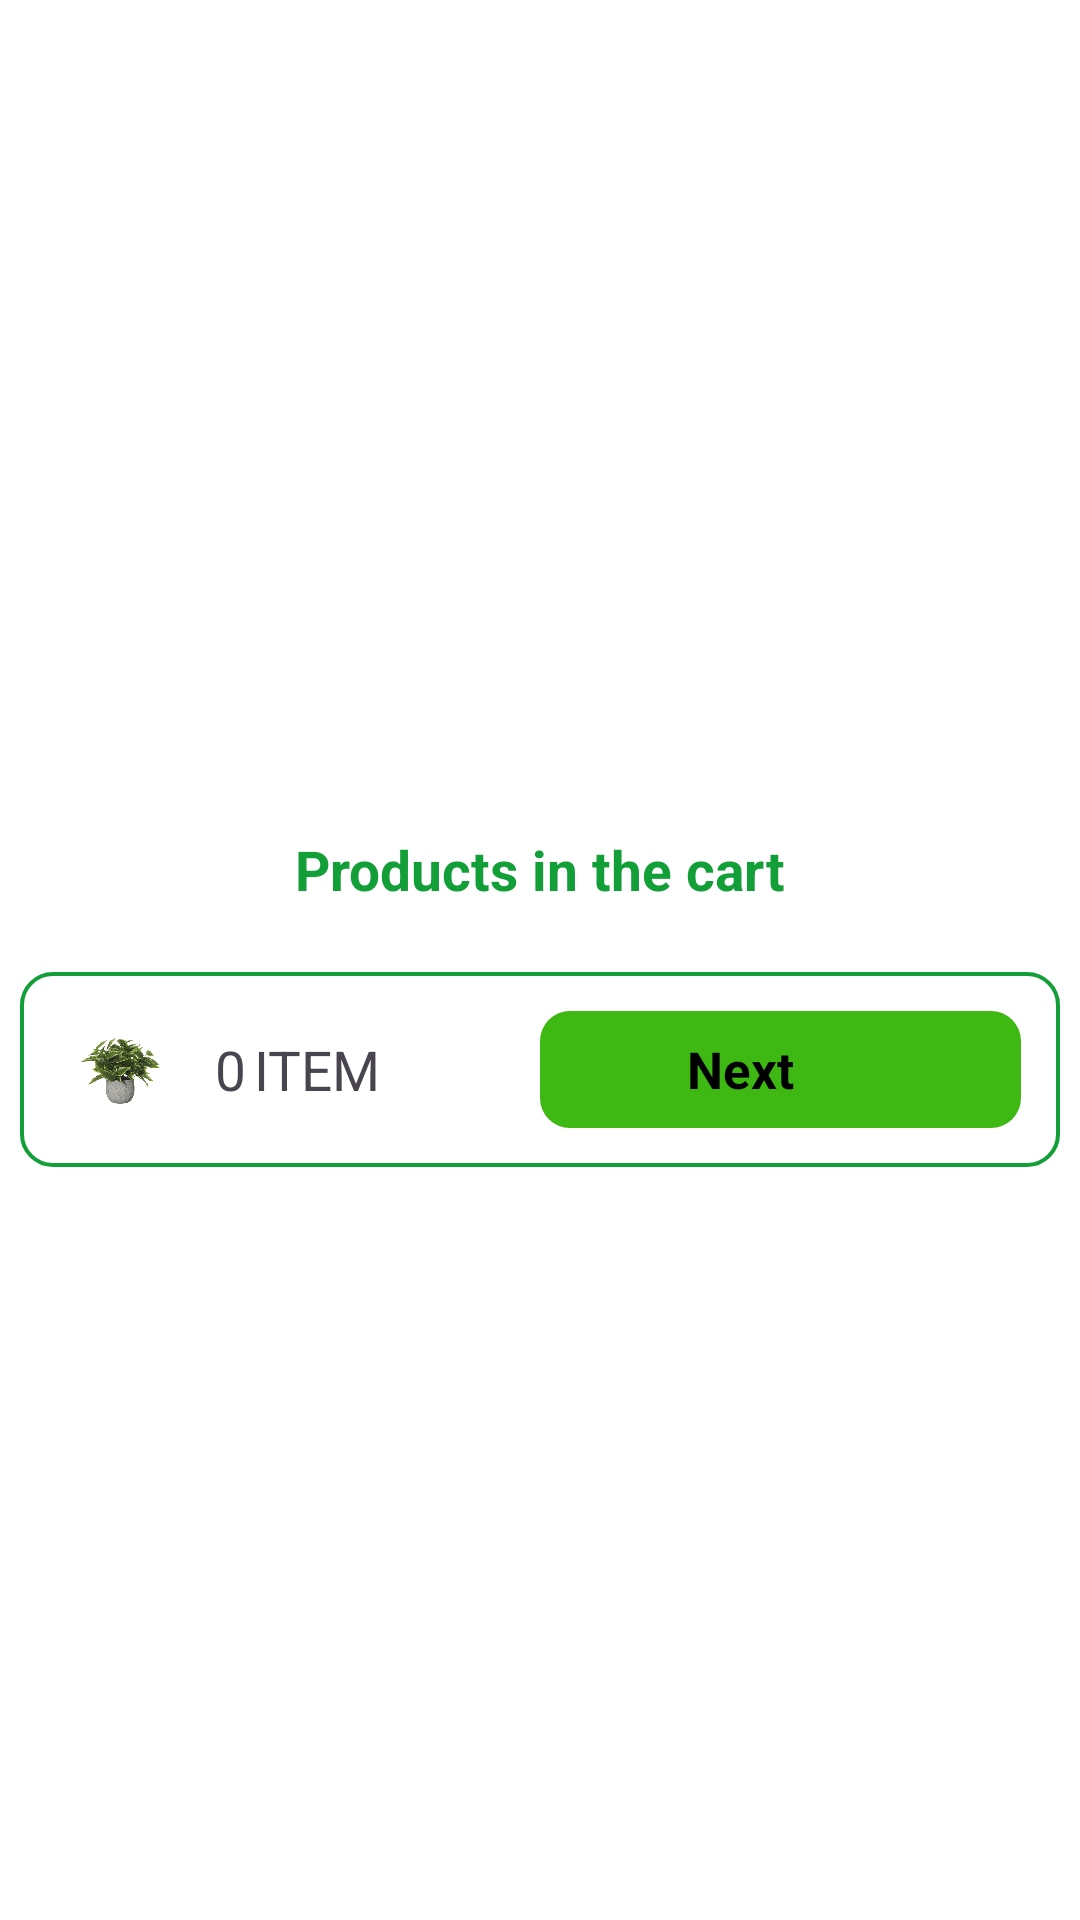

Locate icon controls on the screen. Image size 1080*1920, boxes as (left=x1, top=y1, right=x2, bottom=y2).
indoorplants: (left=80, top=1038, right=160, bottom=1104)
